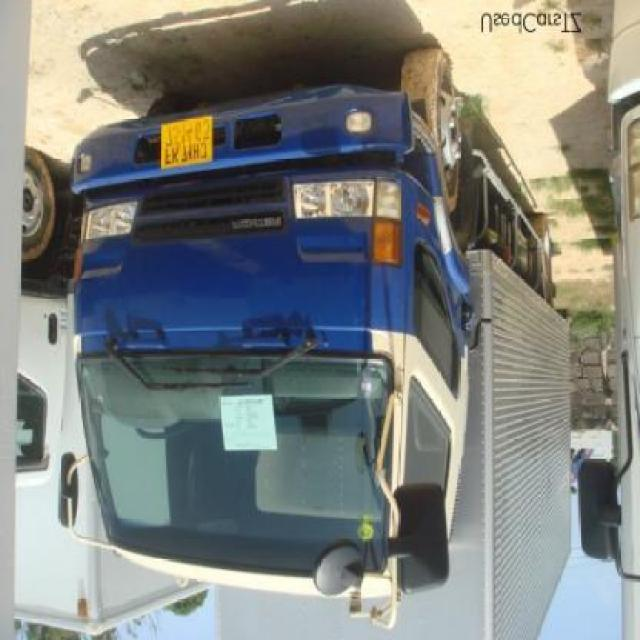truck: (59, 49, 573, 640)
